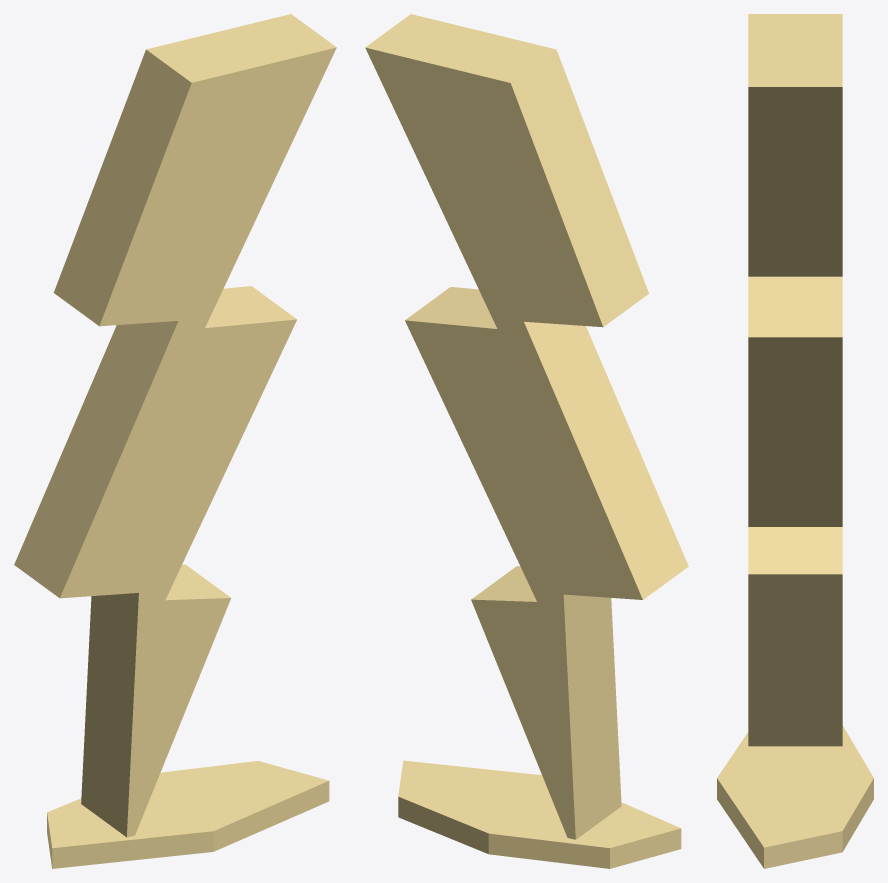
The model's file is lightning-bolt.glb.
3 views of the same model, side by side, from view 1: azimuth 30°, elevation 25°; view 2: azimuth 150°, elevation 25°; view 3: azimuth 270°, elevation 25° (orthographic). The views are drawn at different scales.
Visible parts, largest first — view 1: lightning-bolt; view 2: lightning-bolt; view 3: lightning-bolt.
Boxes of the visible parts, left/top/right/bottom form: lightning-bolt: left=14, top=14, right=336, bottom=868; lightning-bolt: left=365, top=14, right=688, bottom=868; lightning-bolt: left=717, top=14, right=873, bottom=868.
Bounding box in the file's own units: 0.42 × 1.1 × 0.2.
